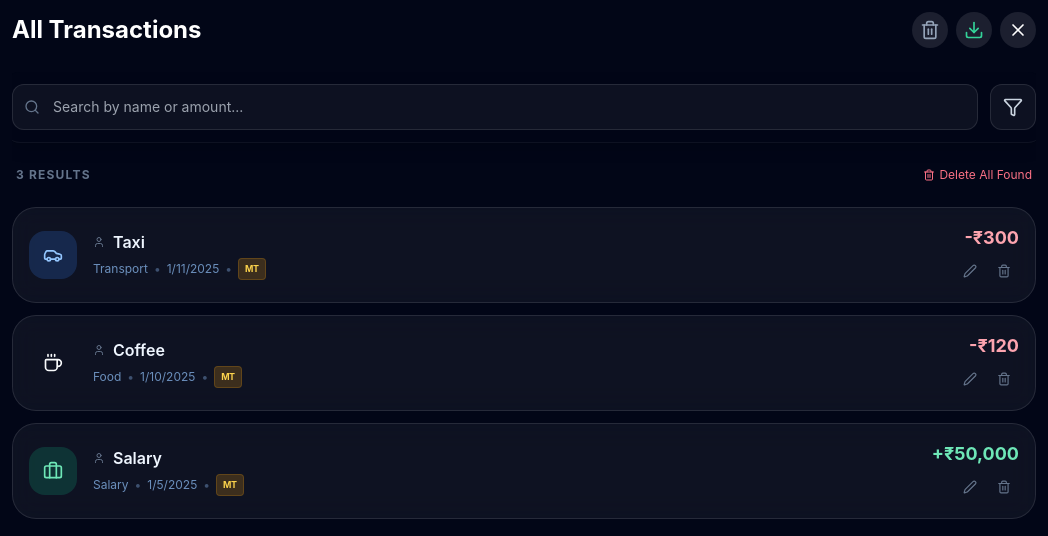
Test case: HistoryPage - Transaction History › filters transactions by search term
Type "Coffee" into the field with placeholder "Search by name or amount..." at (495,107), box [12,84,978,130]
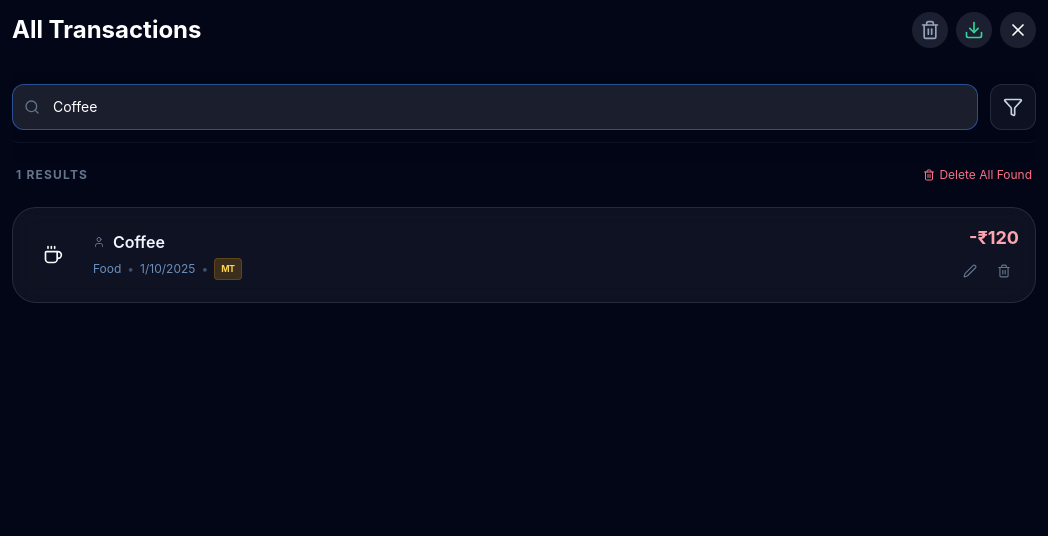
Check: the heading "Coffee" is shown, box [113,230,165,254]
Check: the heading "Taxi" is gone
